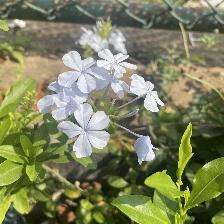chitrak: (60, 103, 112, 156), (61, 50, 99, 94), (130, 75, 165, 115), (96, 51, 137, 74)
